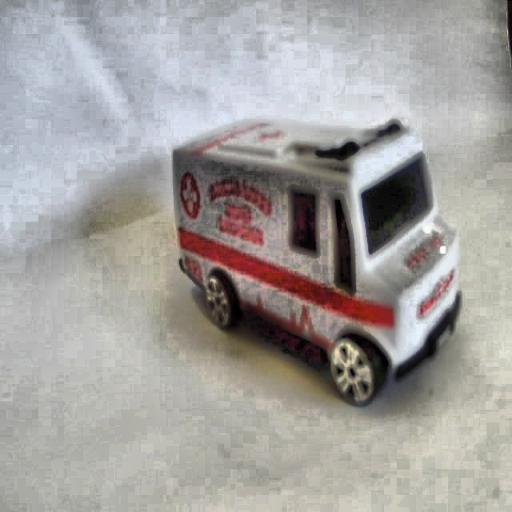ambulance: (172, 116, 462, 406)
